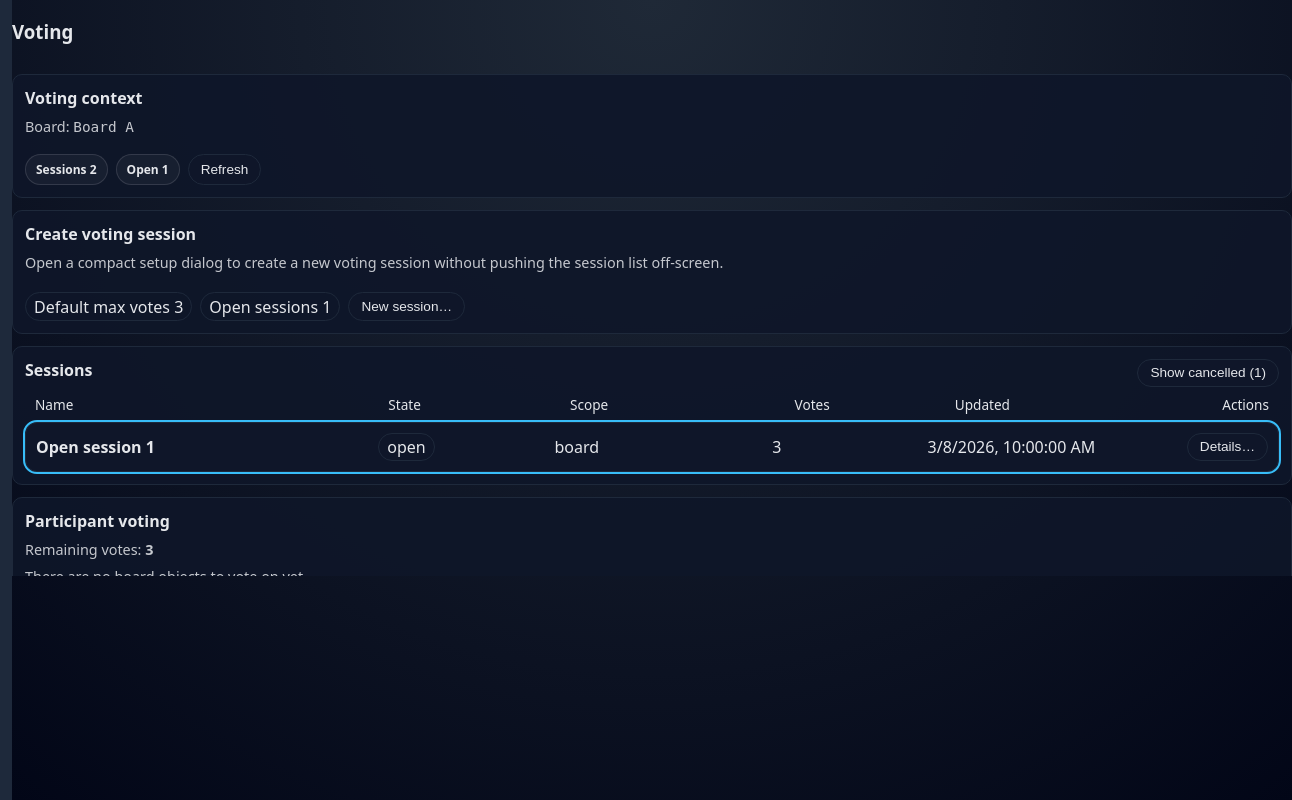
Test: hides cancelled sessions by default and can reveal them on demand
Expected: the text "Cancelled session 2" is not shown
Click the button "Show cancelled (1)": point(1208, 373) [1137,359,1279,387]
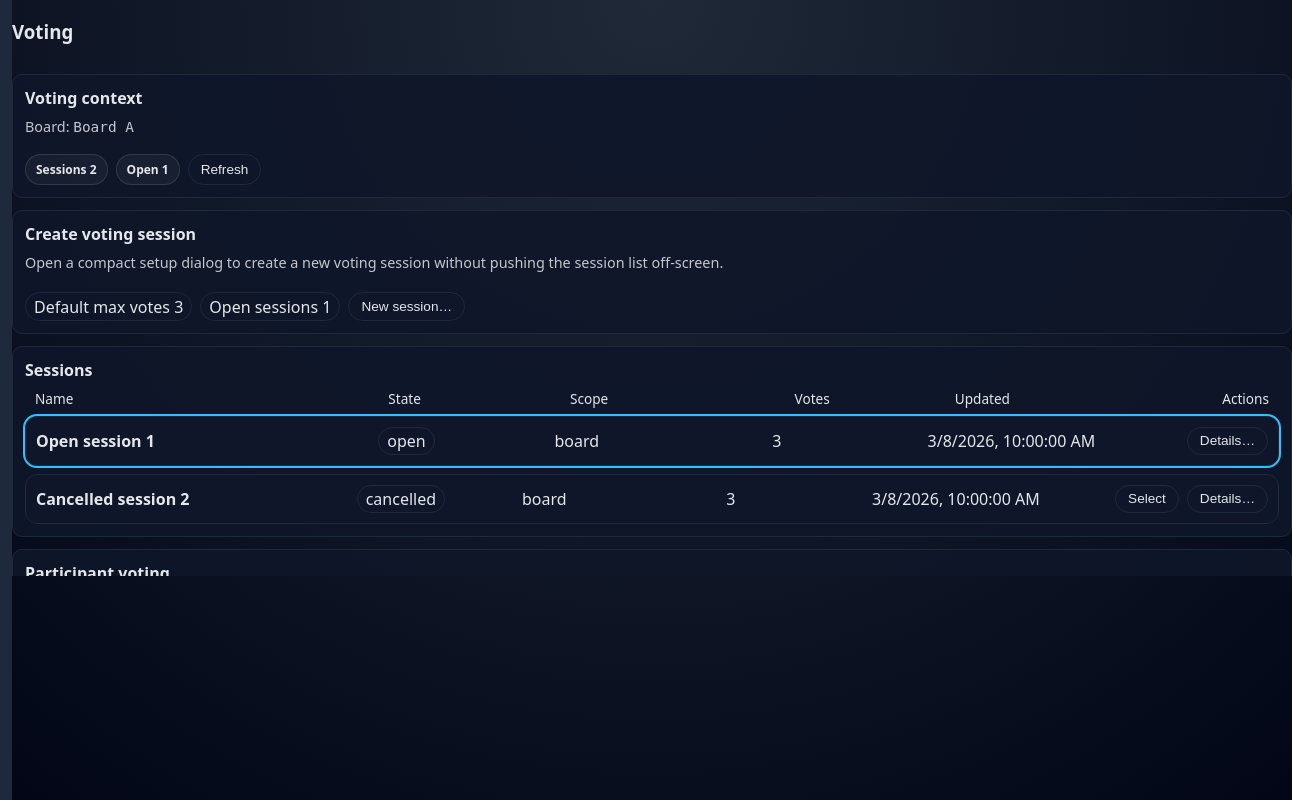
Expected: the text "Cancelled session 2" is shown, [36,488,190,510]
